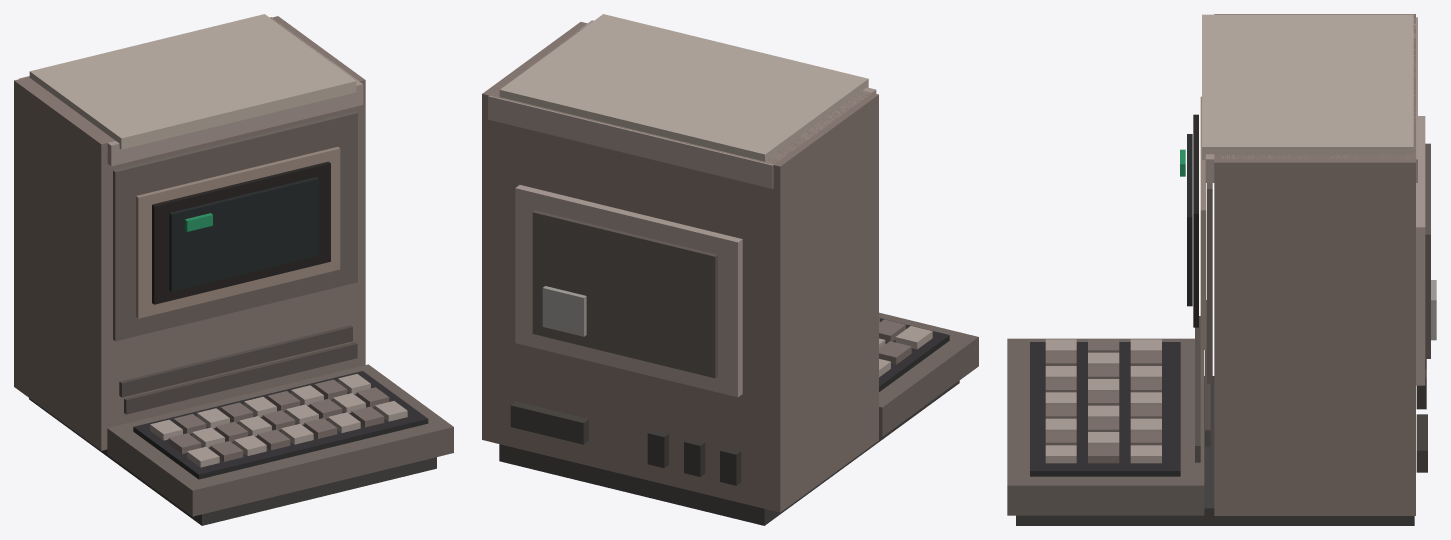
Rendered from CMU3DOldGreenCRTTerminal.glb.
3 views of the same model, side by side, from view 1: azimuth 30°, elevation 25°; view 2: azimuth 150°, elevation 25°; view 3: azimuth 270°, elevation 25° (orthographic). The views are drawn at different scales.
Parts seen in each view (by area): view 1: terminal main shell, top cap highlight, monitor front bezel, keyboard base, CRT display, lower CRT face slope (×2), monitor inner raised rim, screen black surround, dark keyboard tray, upper monitor cap, terminal foot; view 2: terminal main shell, top cap highlight, rear service hatch, rear service hatch border, upper monitor cap, terminal foot, keyboard base, rear lower vent (×3), rear connector recess, rear pale service label, dark keyboard tray, separate keyboard key; view 3: terminal main shell, top cap highlight, keyboard base, dark keyboard tray, terminal foot, rear service hatch border, separate keyboard key (×3), monitor inner raised rim, lower CRT face slope (×2), rear service hatch, screen black surround, monitor front bezel (+3 smaller).
Part boxes in pixels (box(x1,y1,x2,y2)): terminal main shell: box(14, 16, 365, 450); top cap highlight: box(29, 14, 356, 149); monitor front bezel: box(113, 111, 357, 341); keyboard base: box(107, 364, 453, 516); CRT display: box(169, 177, 319, 291); lower CRT face slope (×2): box(119, 325, 357, 414); monitor inner raised rim: box(136, 147, 340, 318); screen black surround: box(152, 161, 330, 304); dark keyboard tray: box(133, 371, 428, 479); upper monitor cap: box(19, 17, 363, 166); terminal foot: box(29, 398, 436, 525); terminal main shell: box(482, 22, 878, 512); top cap highlight: box(499, 14, 868, 161); rear service hatch: box(532, 210, 717, 378); rear service hatch border: box(515, 185, 742, 397); upper monitor cap: box(488, 20, 876, 188); terminal foot: box(499, 380, 959, 525); keyboard base: box(879, 312, 978, 436); rear lower vent (×3): box(647, 429, 741, 485); rear connector recess: box(510, 401, 588, 444); rear pale service label: box(542, 286, 586, 336); dark keyboard tray: box(879, 318, 949, 391); separate keyboard key: box(895, 326, 932, 349); terminal main shell: box(1214, 14, 1415, 515); top cap highlight: box(1202, 14, 1413, 159); keyboard base: box(1007, 338, 1204, 515); dark keyboard tray: box(1030, 342, 1180, 476); terminal foot: box(1016, 376, 1414, 525); rear service hatch border: box(1416, 116, 1425, 385); separate keyboard key (×3): box(1045, 445, 1161, 463); monitor inner raised rim: box(1200, 96, 1206, 349); lower CRT face slope (×2): box(1195, 300, 1210, 462); rear service hatch: box(1425, 143, 1430, 358); screen black surround: box(1193, 114, 1198, 327); monitor front bezel: box(1207, 183, 1212, 383).
Size of the model in its own units: 0.562 by 0.668 by 0.686.
